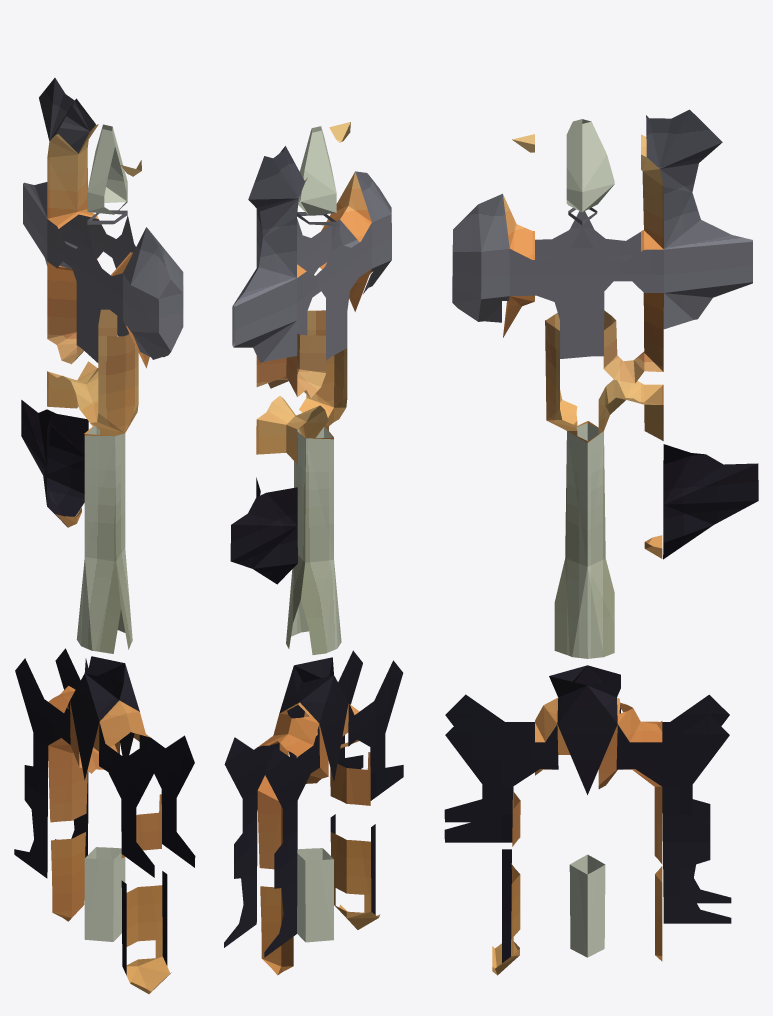
The model's file is glimpseofdarkness.obj.
3 views of the same model, side by side, from view 1: azimuth 30°, elevation 25°; view 2: azimuth 150°, elevation 25°; view 3: azimuth 270°, elevation 25° (orthographic). The views are drawn at different scales.
Size of the model in its own units: 5.46 by 96.01 by 28.75.
